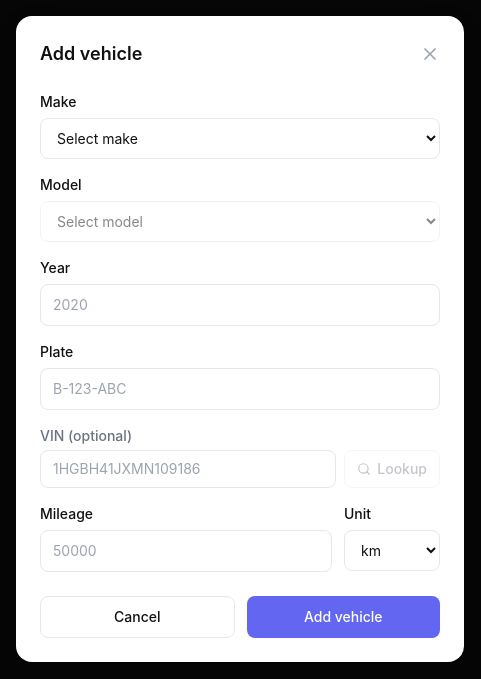
it: VehicleFormModal › Lookup button is enabled when VIN is exactly 17 characters
This screenshot has width=481, height=679.
Type "VSSZZZ5FZGR117755" into the field with placeholder "1HGBH41JXMN109186" at (188, 469), box [40,450,336,488]
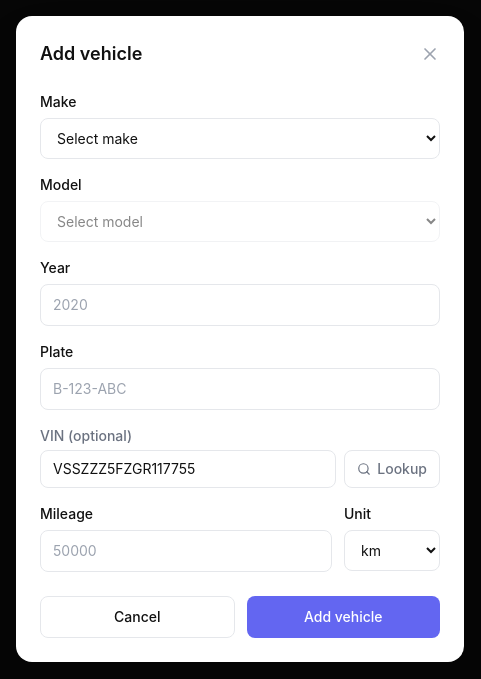
Check: the button with aria-label "lookup vin" is enabled, box [344,450,440,488]
